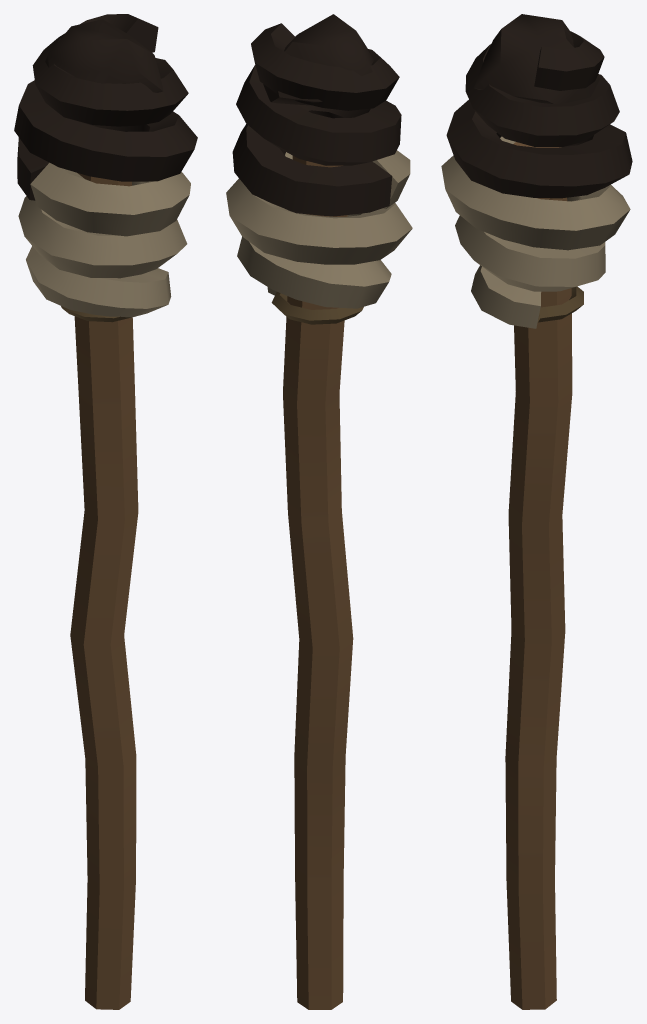
The model's file is torch.glb.
3 renders of one model, left to right at view 1: azimuth 30°, elevation 25°; view 2: azimuth 150°, elevation 25°; view 3: azimuth 270°, elevation 25°, orthographic.
Visible parts, largest first — view 1: torch; view 2: torch; view 3: torch.
Boxes of the visible parts, box(x1,y1,x2,y2) form: torch: box(14, 14, 197, 1009); torch: box(226, 14, 412, 1009); torch: box(441, 14, 632, 1009).
Bounding box in the file's own units: 0.1333 × 0.7979 × 0.1419.
